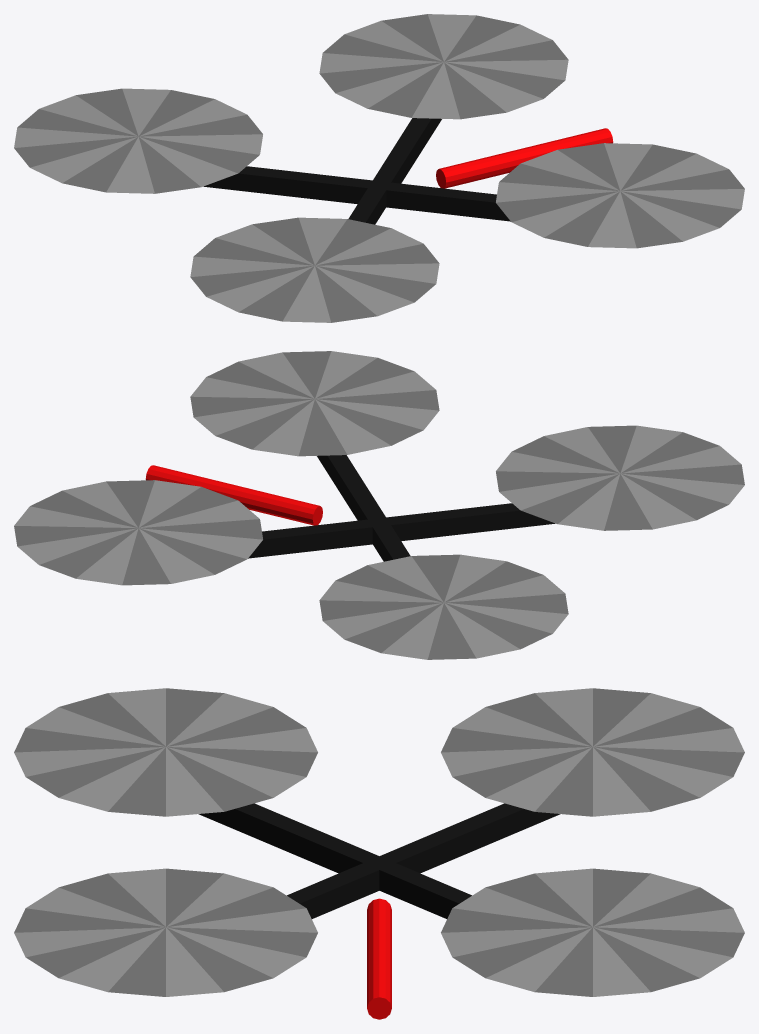
The model's file is quadrotor_2.obj.
3 views of the same model, one above another, from view 1: azimuth 30°, elevation 25°; view 2: azimuth 150°, elevation 25°; view 3: azimuth 270°, elevation 25° (orthographic). The views are drawn at different scales.
Parts seen in each view (by area): view 1: MainBody.001_Cube.001; view 2: MainBody.001_Cube.001; view 3: MainBody.001_Cube.001.
Boxes of the visible parts, x1,y1,x2,y2 form: MainBody.001_Cube.001: (14,14,744,322); MainBody.001_Cube.001: (14,351,744,659); MainBody.001_Cube.001: (14,688,744,1019).
Bounding box in the file's own units: 0.6371 × 0.0459 × 0.6371.
